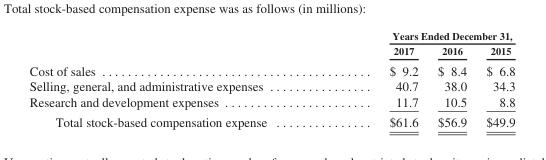table: (28, 28, 514, 129)
table column: (28, 28, 327, 129), (327, 28, 427, 129), (427, 28, 475, 129), (475, 28, 514, 129)
table column header: (28, 28, 514, 59)
table row: (28, 59, 514, 78), (28, 93, 514, 111), (28, 111, 514, 129), (28, 42, 514, 59), (28, 78, 514, 93), (28, 28, 514, 42)
table spanning cell: (327, 28, 514, 42)
